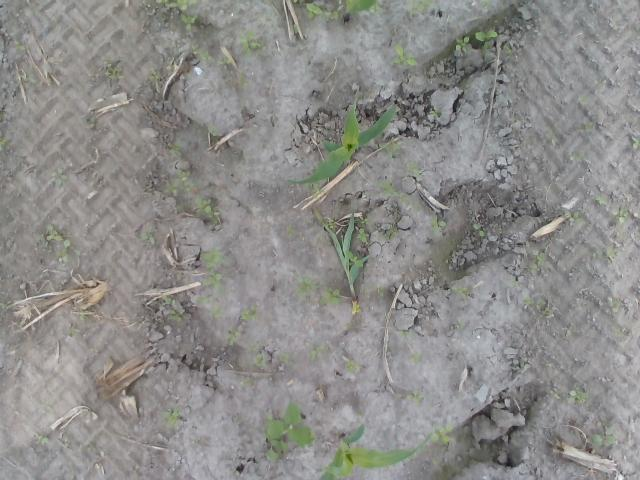Maize: (286, 96, 396, 186), (308, 204, 372, 303), (318, 424, 431, 480), (343, 0, 378, 22)
Weeds: (263, 399, 316, 461), (196, 248, 227, 318), (38, 222, 80, 264), (294, 270, 342, 305), (380, 175, 424, 210), (154, 0, 202, 32), (160, 169, 209, 193), (473, 20, 498, 64), (192, 197, 225, 225), (520, 296, 556, 320), (305, 0, 346, 21), (192, 46, 232, 66), (392, 40, 418, 70), (239, 30, 265, 58), (611, 207, 631, 240), (244, 342, 269, 368), (158, 408, 184, 432), (102, 55, 126, 80), (376, 136, 401, 160), (568, 382, 593, 406), (356, 282, 384, 303), (78, 111, 110, 129), (432, 420, 456, 444), (590, 432, 620, 450), (352, 218, 370, 246), (308, 342, 328, 366), (408, 0, 434, 18), (135, 230, 161, 248), (528, 248, 546, 272), (404, 389, 426, 408), (592, 246, 626, 258), (49, 167, 68, 188), (430, 214, 448, 236), (566, 144, 590, 160), (562, 208, 586, 224), (544, 126, 563, 146), (454, 35, 472, 56), (168, 142, 188, 160), (404, 158, 424, 176), (452, 286, 471, 304), (224, 328, 241, 346), (384, 224, 401, 242), (348, 250, 365, 267), (591, 192, 609, 208), (240, 303, 256, 320), (345, 360, 364, 374), (472, 222, 488, 238), (14, 70, 36, 81), (608, 295, 621, 313), (368, 2, 383, 17), (0, 138, 16, 152), (240, 376, 256, 390), (66, 324, 82, 338), (158, 292, 176, 304), (167, 309, 185, 321), (238, 70, 250, 88), (320, 218, 338, 230), (148, 66, 162, 81), (408, 351, 423, 365), (481, 0, 494, 16), (398, 328, 418, 338), (576, 95, 594, 106), (78, 304, 90, 320), (549, 388, 562, 402), (33, 433, 48, 445), (286, 224, 298, 239), (208, 126, 222, 137), (454, 320, 464, 335), (279, 350, 289, 364), (430, 108, 442, 119), (590, 78, 608, 85), (351, 304, 363, 314), (614, 326, 624, 338), (14, 38, 24, 49), (510, 277, 520, 288), (550, 232, 561, 242), (504, 44, 513, 56), (49, 282, 64, 289), (462, 80, 472, 90), (631, 136, 640, 146), (584, 121, 594, 129), (290, 23, 298, 33), (439, 256, 449, 264), (290, 0, 304, 5), (0, 152, 7, 161), (314, 183, 320, 193), (320, 235, 328, 241), (543, 207, 549, 212)
